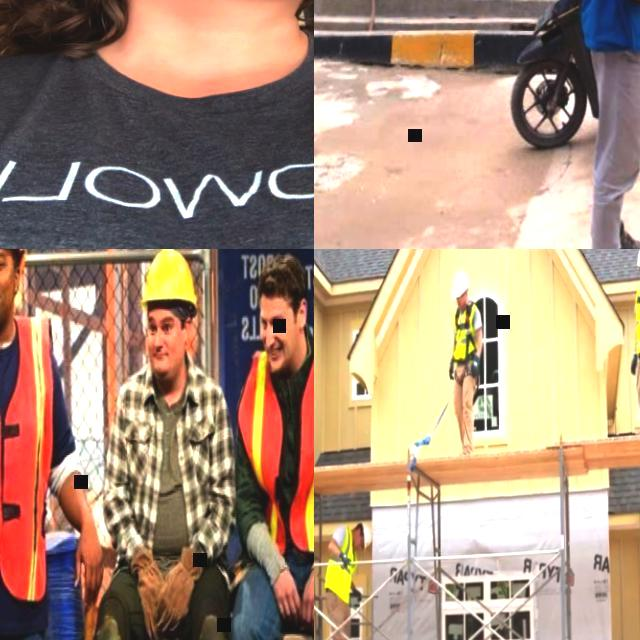helmet: (145, 249, 203, 306), (452, 270, 470, 296), (360, 520, 373, 548)
no_helmet: (258, 252, 308, 306)
no_mask: (144, 342, 182, 380), (268, 338, 300, 374), (0, 283, 15, 323), (354, 532, 360, 550), (458, 298, 465, 307)
no_vest: (0, 33, 314, 249), (130, 366, 210, 548)
person: (0, 0, 314, 249), (82, 249, 243, 640), (0, 249, 111, 640), (228, 249, 314, 640), (570, 0, 640, 249), (448, 268, 486, 454), (324, 518, 376, 640), (630, 249, 640, 435)
vest: (235, 330, 314, 565), (0, 302, 62, 587), (324, 522, 359, 600), (454, 301, 478, 358)
